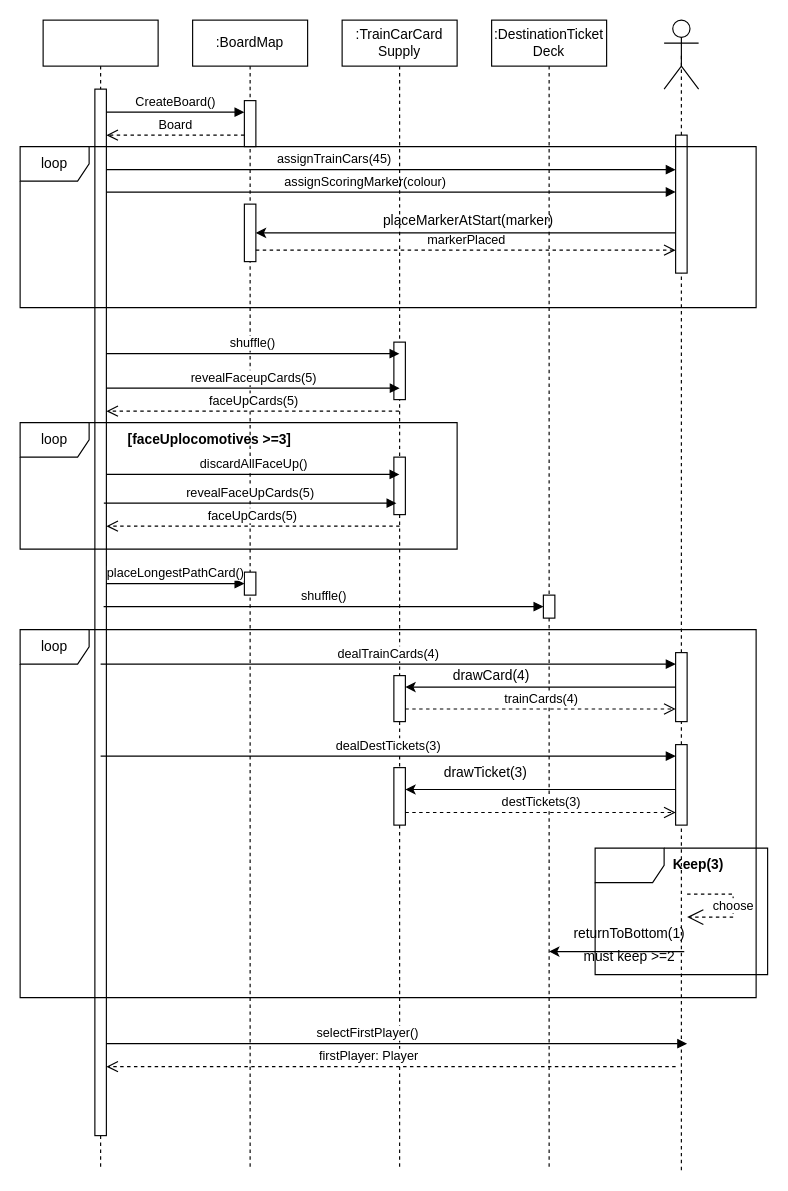
Some shapes in this 788 by 1191 pixel diagram are drawn without their labels. Here are the shapes that lost their labels. From the top down, the box of each, then its label:
(663, 19, 699, 89): Player
(42, 19, 158, 1170): :Game
(594, 847, 768, 975): opt
